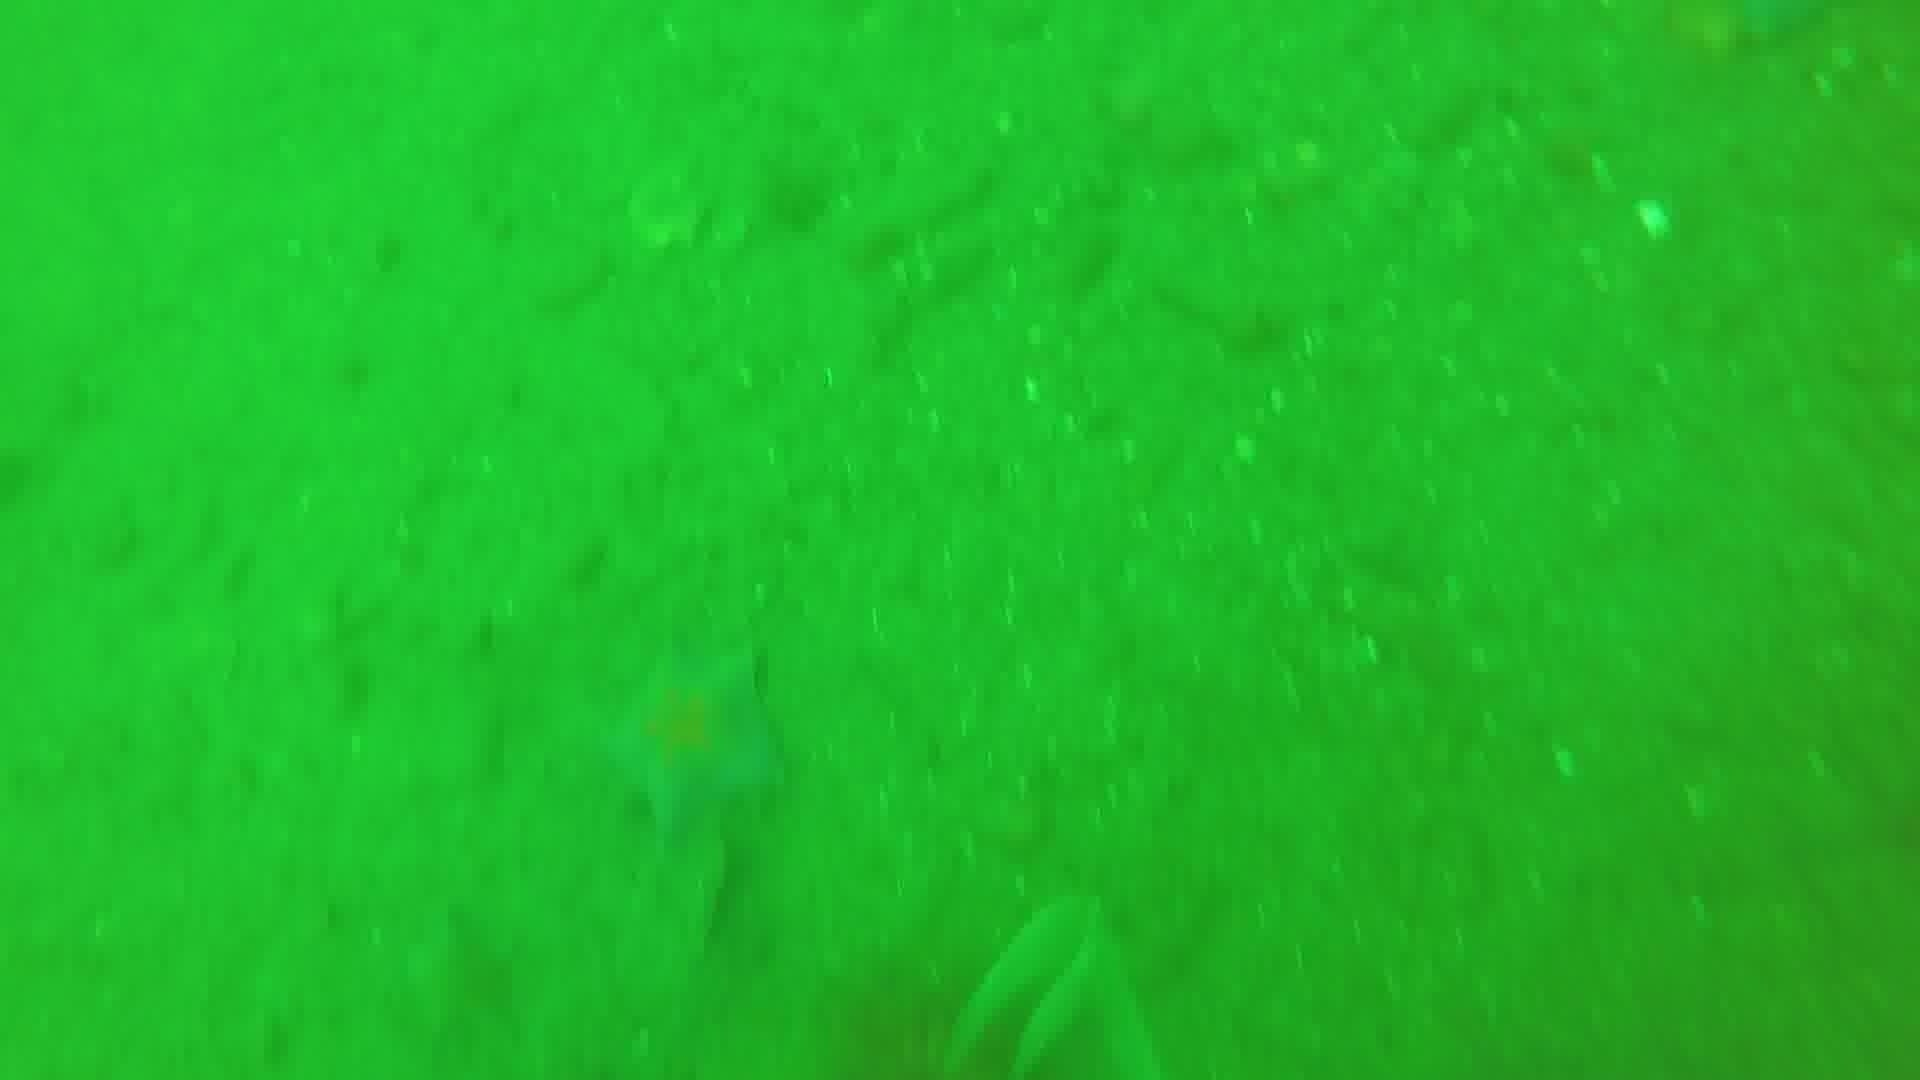starfish: (593, 640, 793, 847), (392, 905, 534, 1063)
